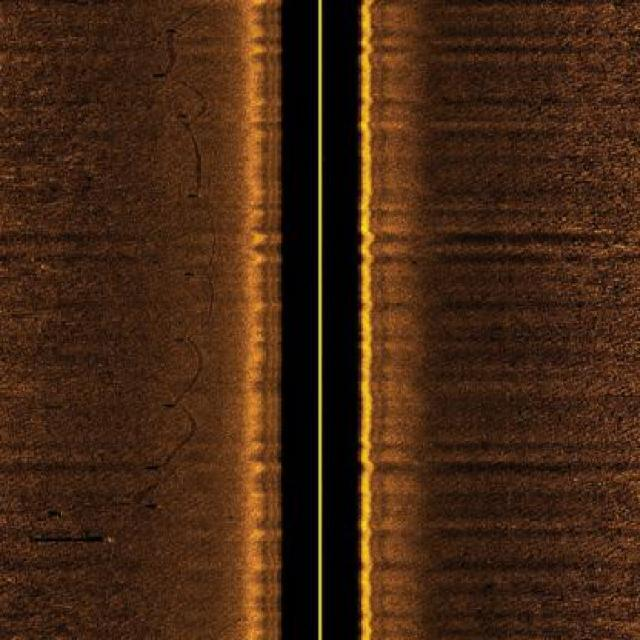mine: (30, 530, 116, 545), (44, 509, 64, 518)
other: (144, 21, 222, 508)
